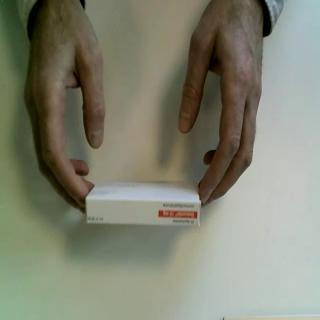dolcontin10mg: (85, 180, 202, 230)
